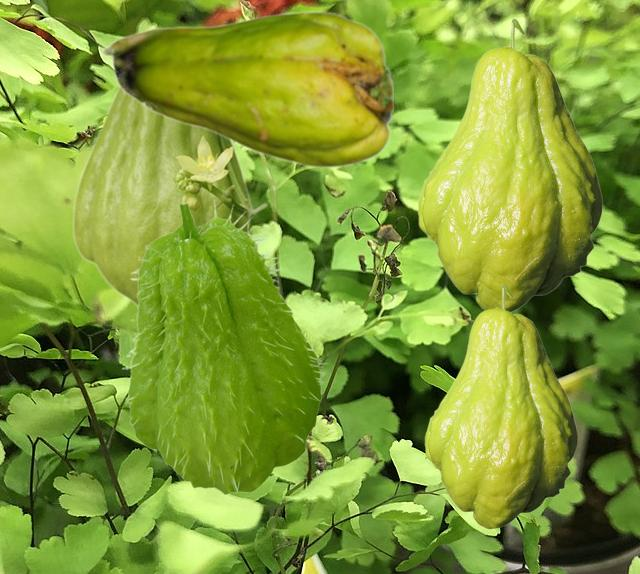sayote: (121, 198, 327, 494), (417, 18, 602, 312), (100, 10, 392, 168), (71, 86, 268, 306), (424, 284, 577, 528)
